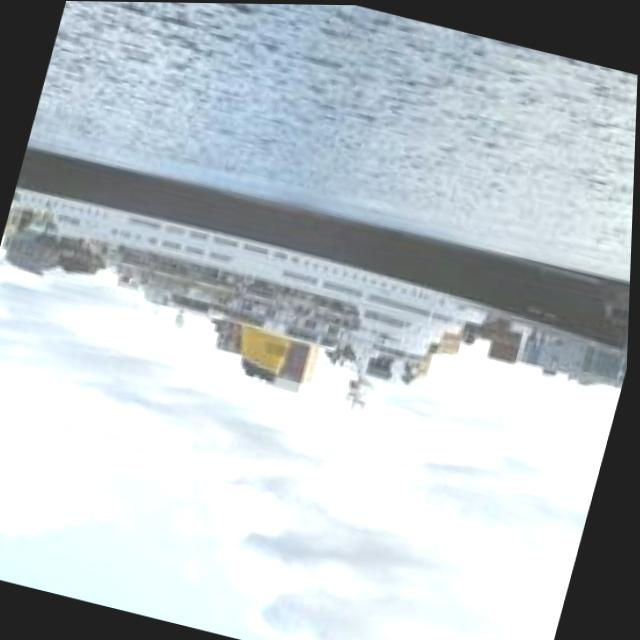ship2: (11, 147, 631, 399)
